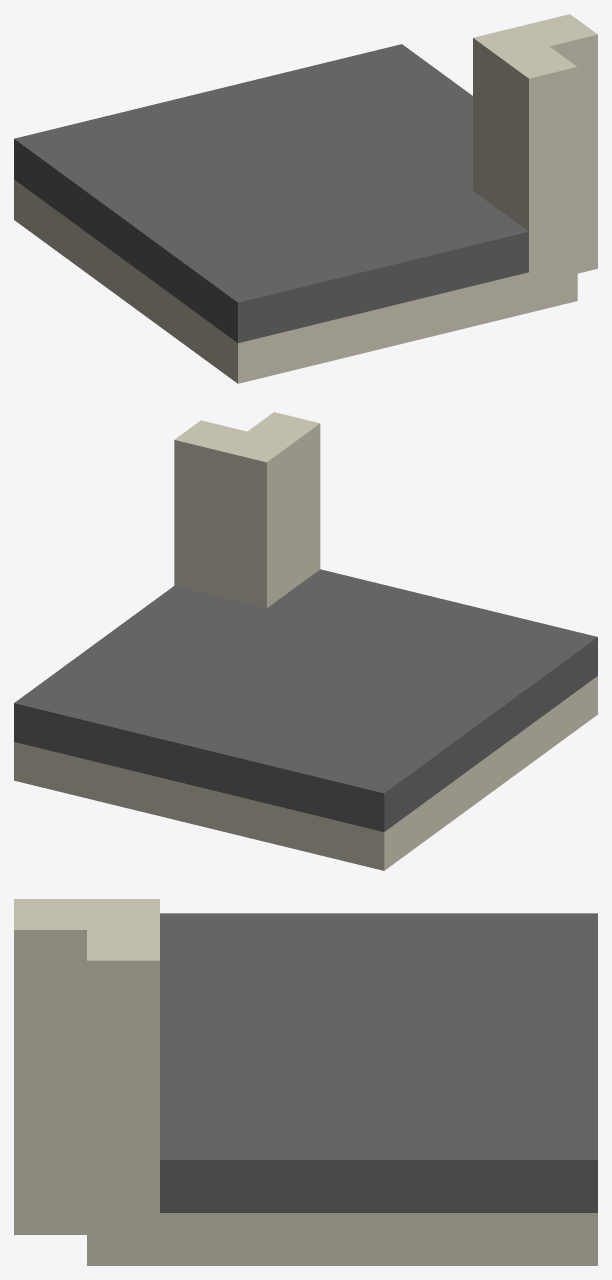
The model's file is tile209.fbx.
The picture shows the model from 3 angles, top to bottom: view 1: azimuth 30°, elevation 25°; view 2: azimuth 150°, elevation 25°; view 3: azimuth 270°, elevation 25°; orthographic projection. The views are drawn at different scales.
Parts seen in each view (by area): view 1: tile209; view 2: tile209; view 3: tile209.
Part boxes in pixels (<box>): tile209: <box>14,14,597,383</box>; tile209: <box>14,412,597,870</box>; tile209: <box>14,899,597,1265</box>.
Bounding box in the file's own units: 10 × 5.77 × 10.
